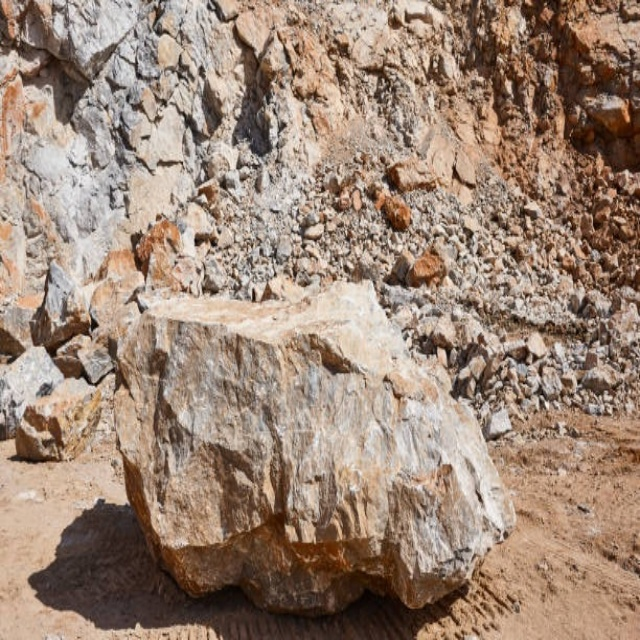obstacle: (115, 284, 513, 612)
